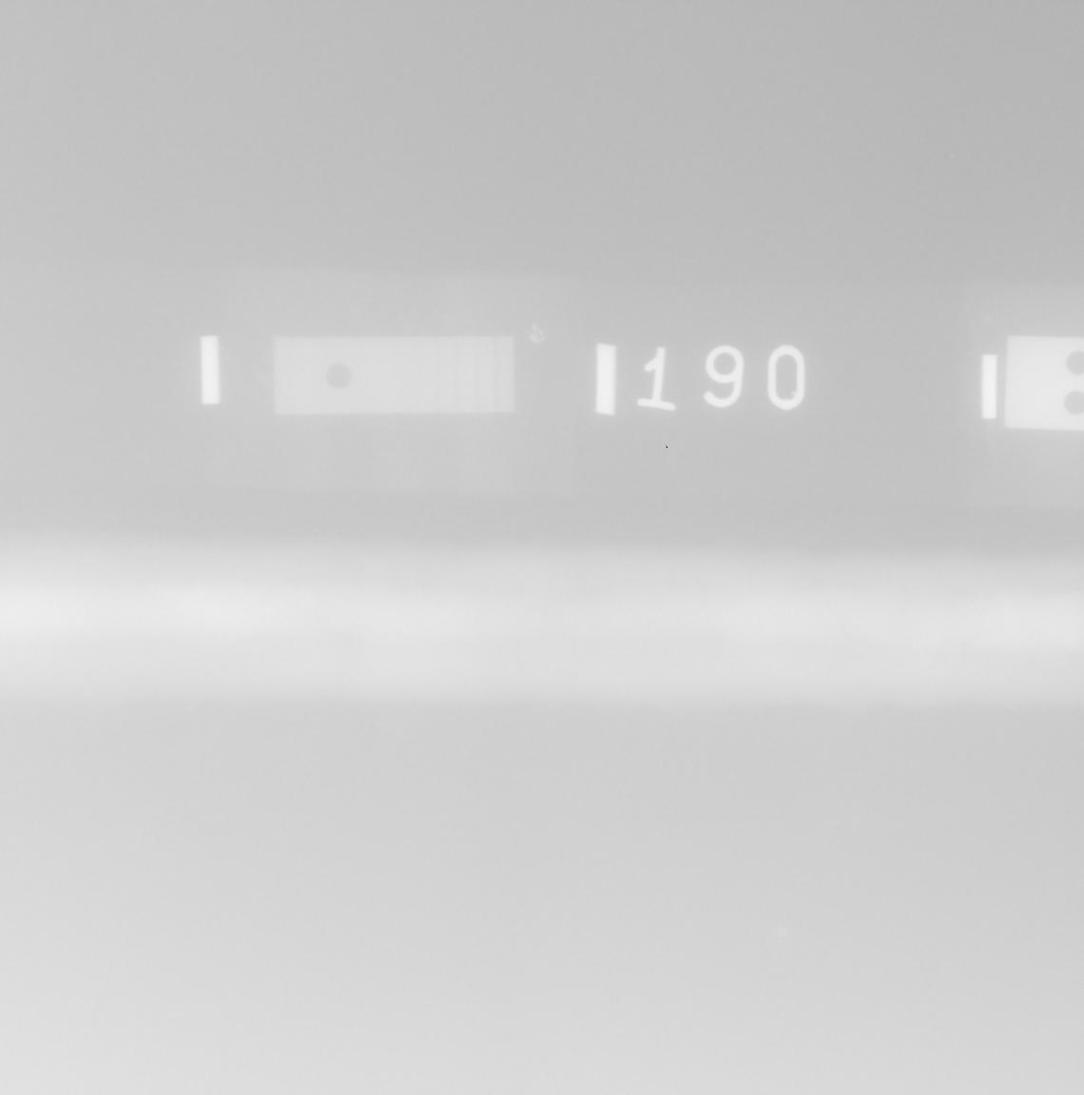Reference Standard 1: (273, 335, 515, 415)
